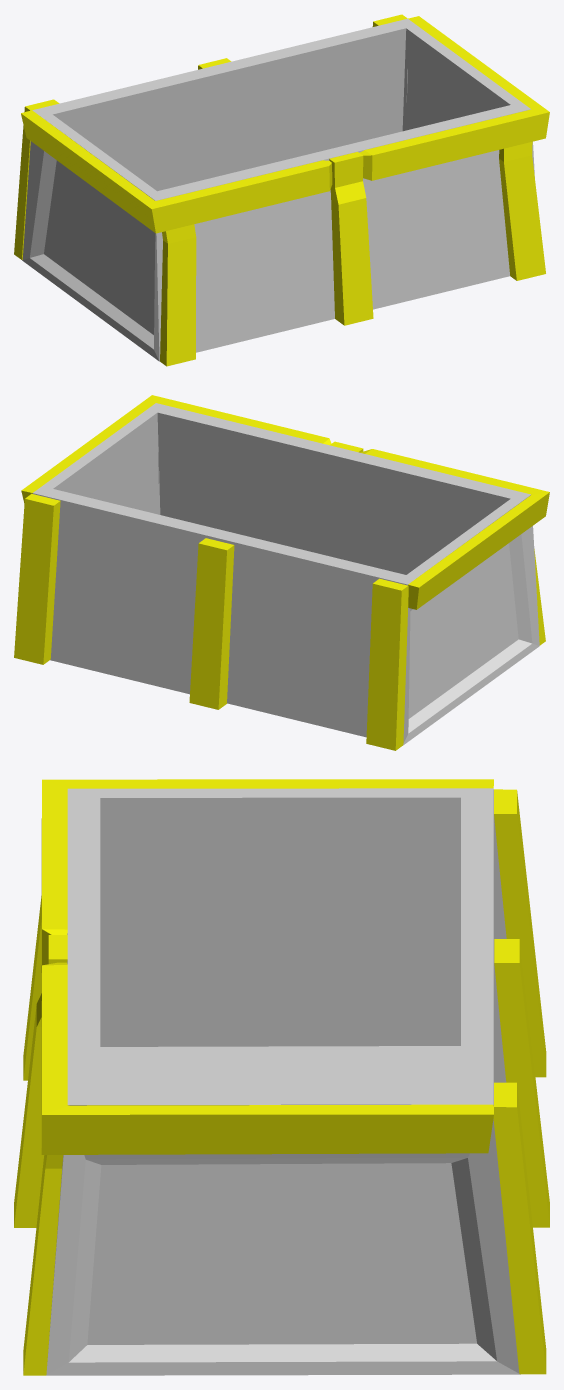
The model's file is ChestSmall.glb.
3 renders of one model, top to bottom at view 1: azimuth 30°, elevation 25°; view 2: azimuth 150°, elevation 25°; view 3: azimuth 270°, elevation 25°, orthographic. The views are drawn at different scales.
Visible parts, largest first — view 1: ChestSmall; view 2: ChestSmall; view 3: ChestSmall.
Boxes of the visible parts, box(x1,y1,x2,y2) form: ChestSmall: box(14, 14, 549, 366); ChestSmall: box(14, 395, 549, 750); ChestSmall: box(14, 779, 549, 1375).
Size of the model in its own units: 0.4889 by 0.1831 by 0.3303.
Materials: 2 (1 with a texture image).
